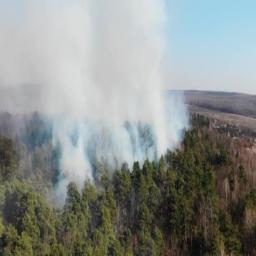Heavy smoke: (1, 0, 201, 216)
